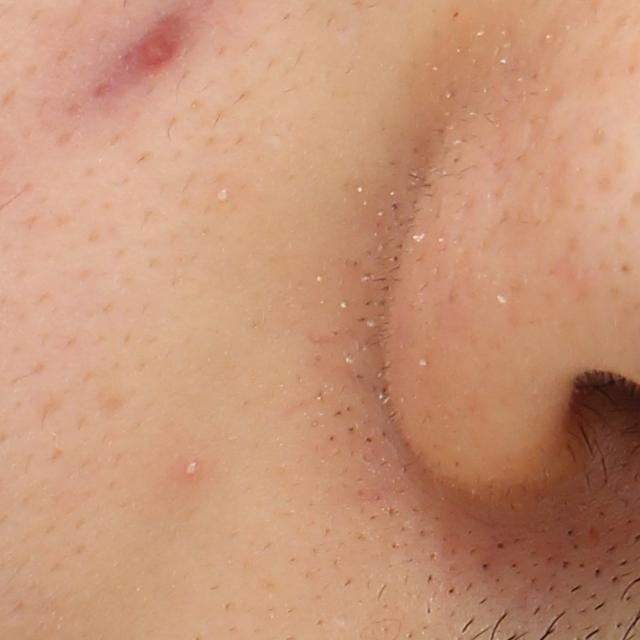pustule: (182, 456, 202, 480)
